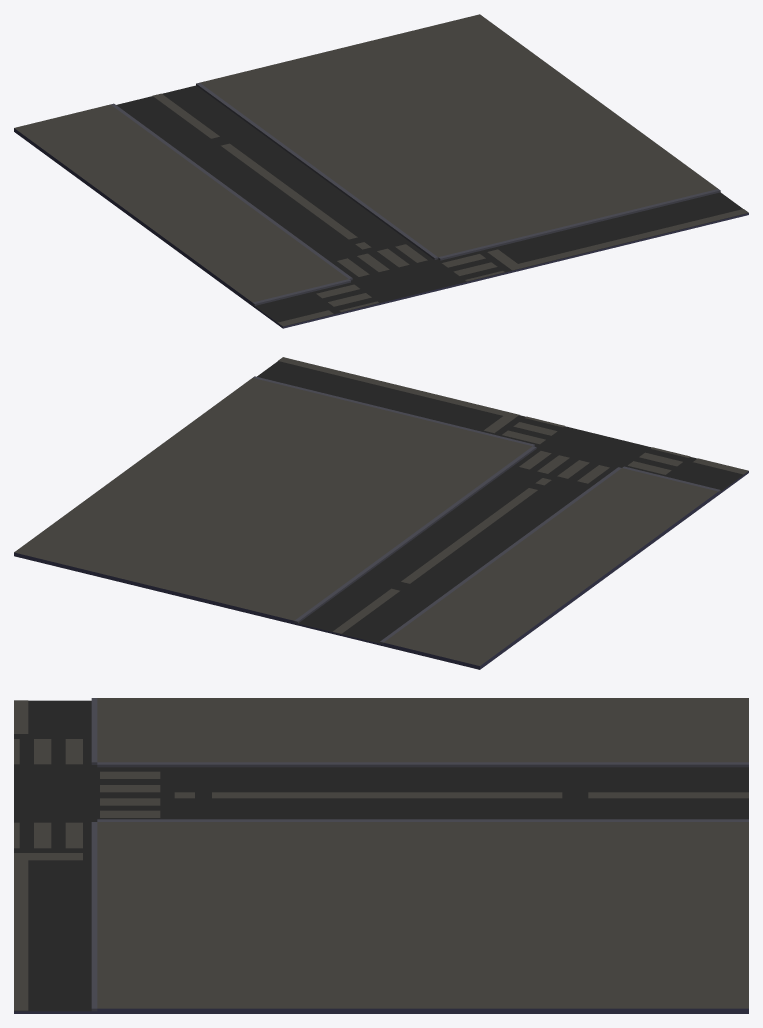
The model's file is Street_Mesh_004.fbx.
3 views of the same model, one above another, from view 1: azimuth 30°, elevation 25°; view 2: azimuth 150°, elevation 25°; view 3: azimuth 270°, elevation 25° (orthographic). The views are drawn at different scales.
Parts seen in each view (by area): view 1: Street_004; view 2: Street_004; view 3: Street_004.
Boxes of the visible parts, <box> form: Street_004: <box>14,14,748,328</box>; Street_004: <box>14,357,748,669</box>; Street_004: <box>14,698,748,1013</box>.
Bounding box in the file's own units: 25.6 × 0.2 × 25.6.
